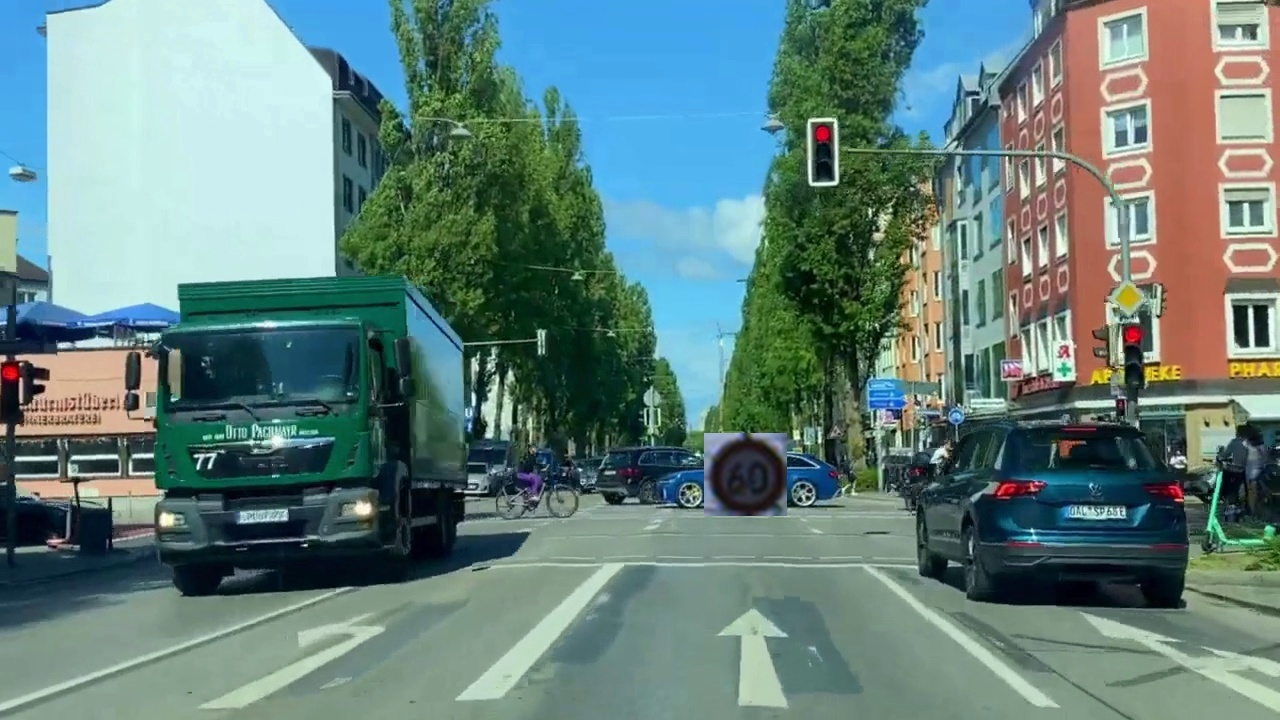Speed 60: (704, 433, 787, 516)
